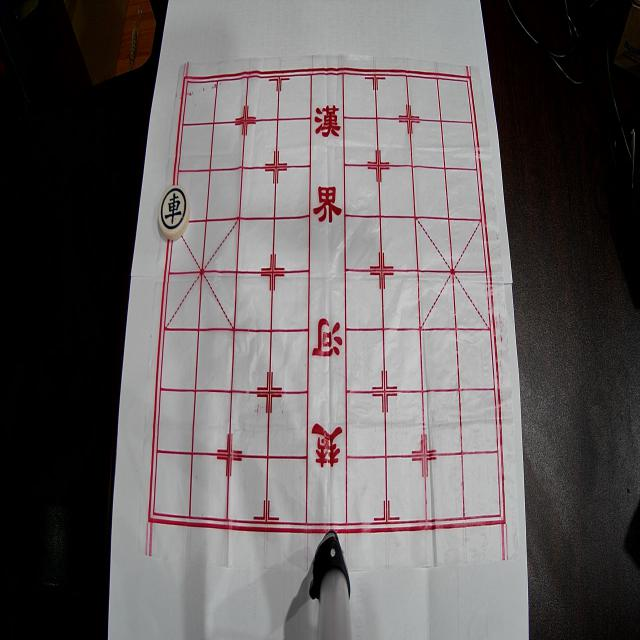black-chariot: (158, 186, 190, 240)
